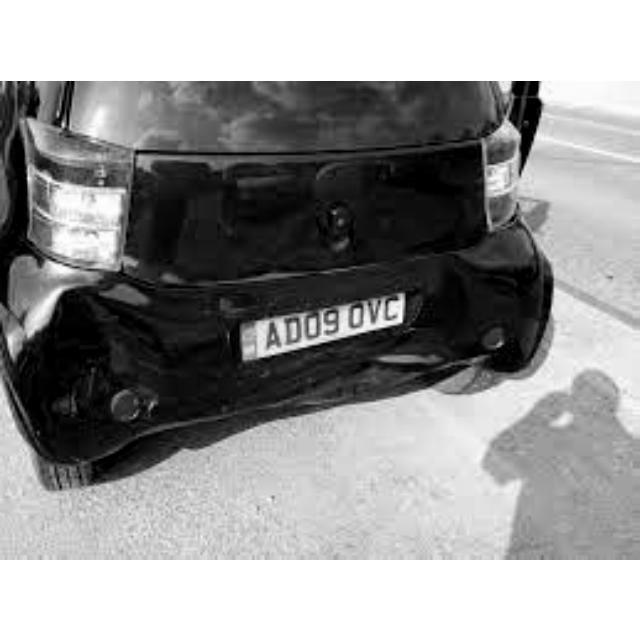boot-dent: (117, 138, 487, 293)
rear-bumper-dent: (31, 256, 552, 417)
